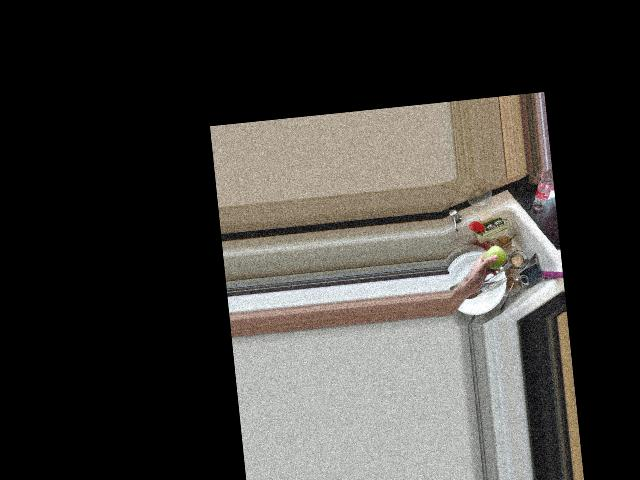apple: (479, 244, 508, 272)
